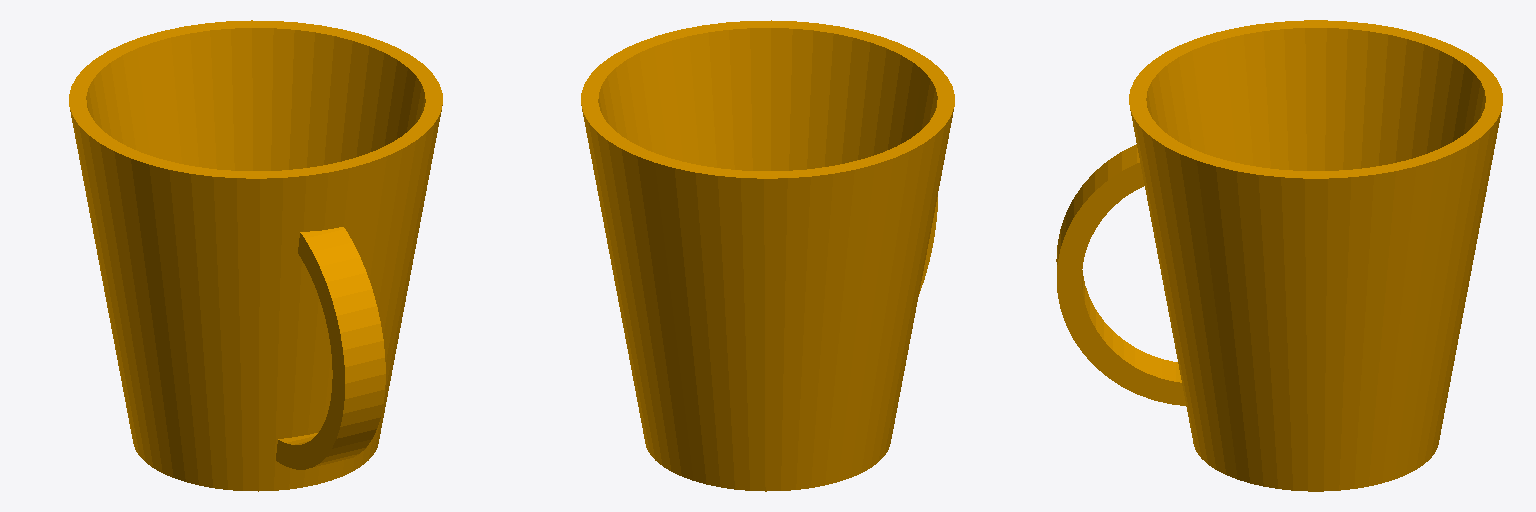
robot.urdf — cup_model:
<robot name="cup_model">
  <link name="cup_can">
    <inertial>
      <mass value="0.1" />
      <!-- center of mass (com) is defined w.r.t. link local coordinate system -->
      <origin xyz="0 0 0.04" /> 
      <inertia  ixx="0.1" ixy="0.0"  ixz="0.0"  iyy="0.1"  iyz="0.0"  izz="0.1" />
    </inertial>
    <visual>
      <!-- visual origin is defined w.r.t. link local coordinate system -->
      <origin xyz="0 0 0" rpy="0 0 -1.57" />
      <geometry>
        <mesh filename="package://object_detection/objects/cup/cup.stl"/>
      </geometry>
    </visual>
    <collision>
      <!-- collision origin is defined w.r.t. link local coordinate system -->
      <origin xyz="0 0 0" rpy="0 0 0" />
      <geometry>
        <mesh filename="package://object_detection/objects/cup/cup.stl"/>
      </geometry>
    </collision>
  </link>
  <gazebo reference="cup">
    <turnGravityOff>false</turnGravityOff>
  </gazebo>
</robot>

--- Render facts (derived) ---
3 views of the same robot in one strip: view 1: azimuth 30°, elevation 25°; view 2: azimuth 150°, elevation 25°; view 3: azimuth 270°, elevation 25° (orthographic).
Robot: cup_model — 1 links, 0 joints (none); root link cup_can; default pose: every joint at zero.
Links seen in each view (by area): view 1: cup_can; view 2: cup_can; view 3: cup_can.
Link boxes in pixels (left/top/right/bottom): cup_can: left=69, top=20, right=442, bottom=491; cup_can: left=581, top=20, right=954, bottom=491; cup_can: left=1056, top=20, right=1502, bottom=491.
Size in the robot's own frame: 0.1012 by 0.1209 by 0.1015 metres.
Meshes: 1 distinct files referenced, 1 mesh visuals loaded (1 binary STL).